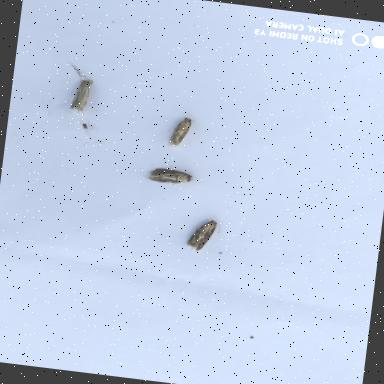pbw: (184, 212, 224, 254), (65, 71, 96, 118), (142, 164, 196, 189), (164, 112, 198, 149)
